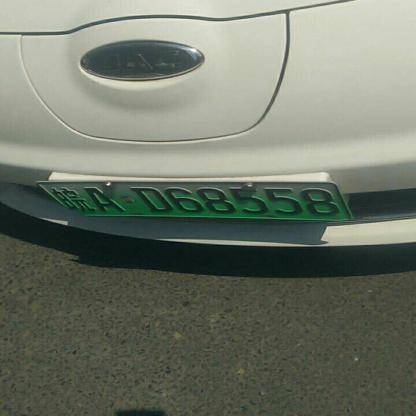lp: (39, 182, 78, 218)
